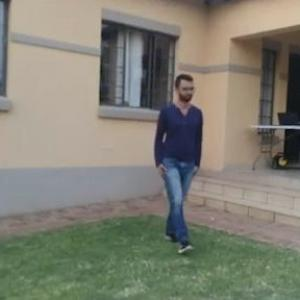follow: (151, 65, 209, 260)
